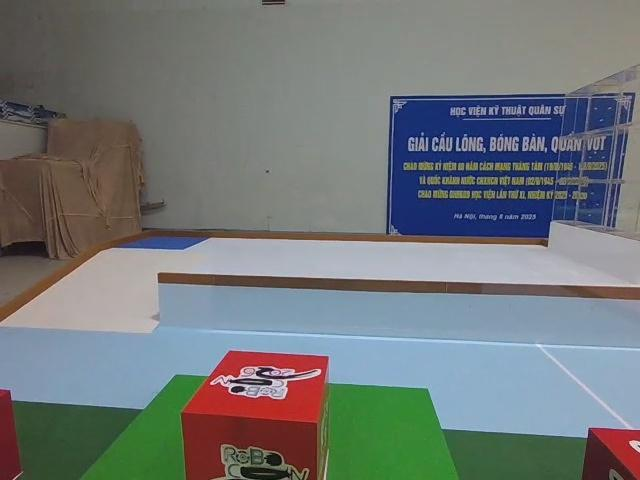R1: (178, 341, 332, 480)
